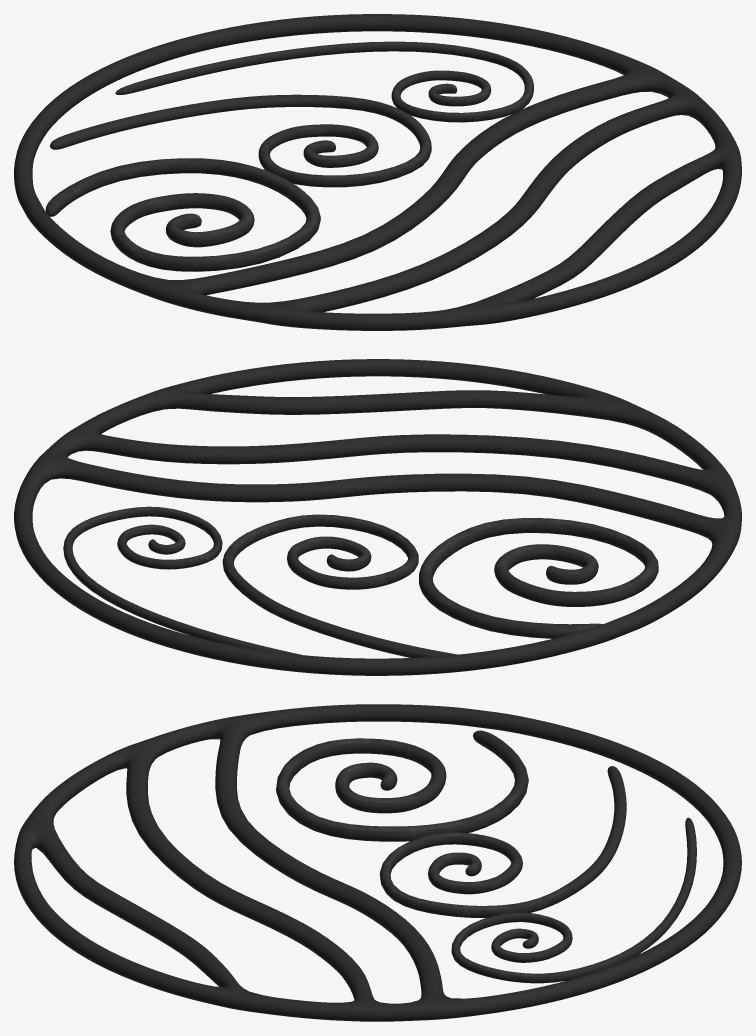
The model's file is Water.fbx.
3 renders of one model, top to bottom at view 1: azimuth 30°, elevation 25°; view 2: azimuth 150°, elevation 25°; view 3: azimuth 270°, elevation 25°, orthographic.
Parts seen in each view (by area): view 1: Water; view 2: Water; view 3: Water.
Boxes of the visible parts, x1,y1,x2,y2 form: Water: (14,14,741,330); Water: (14,359,741,675); Water: (14,704,741,1021).
Size of the model in its own units: 397 by 13.96 by 397.
